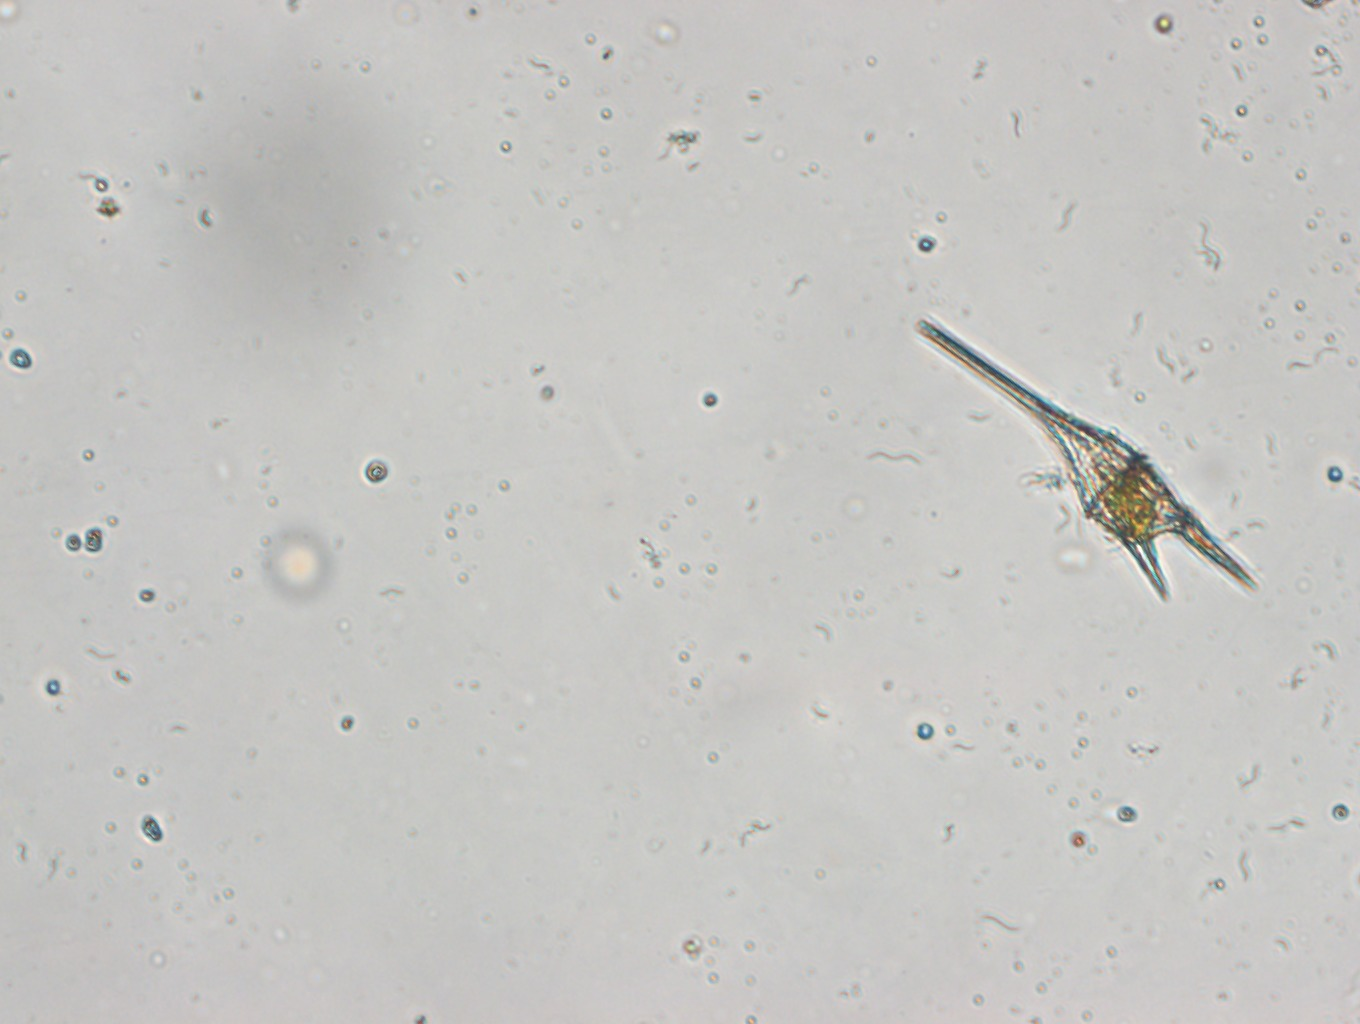ceratium furca: (913, 317, 1266, 600)
